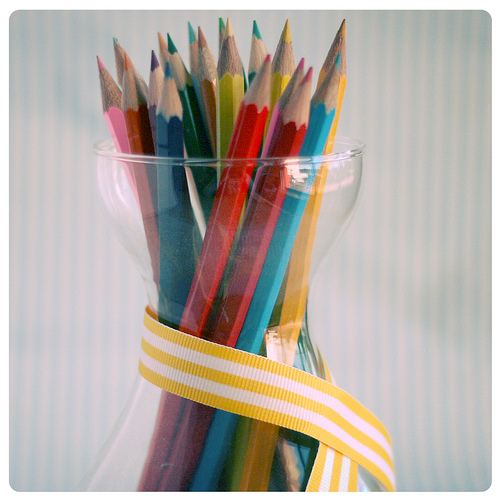pen_tip: (240, 51, 280, 128), (151, 59, 188, 128)
